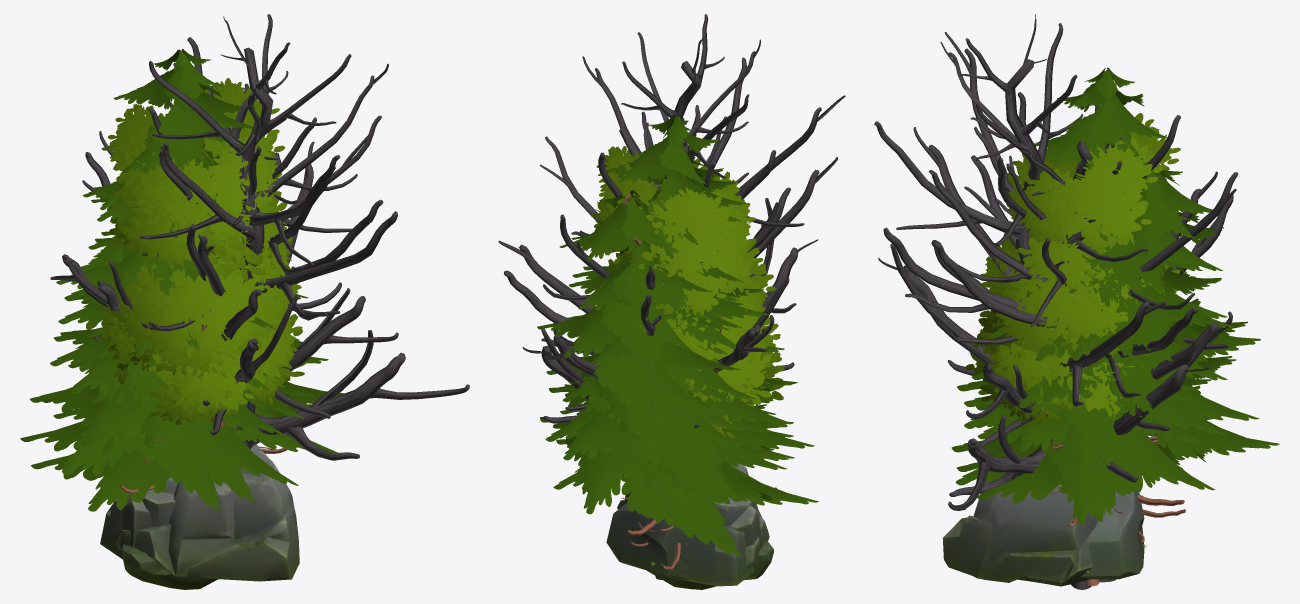
Rendered from naturaleza.glb.
3 views of the same model, side by side, from view 1: azimuth 30°, elevation 25°; view 2: azimuth 150°, elevation 25°; view 3: azimuth 270°, elevation 25° (orthographic). The views are drawn at different scales.
Parts seen in each view (by area): view 1: DeadTree_2, Pine_4, CommonTree_3, Rock_Medium_3, DeadTree_1, Pine_2, Pine_5, CommonTree_1, CommonTree_4, CommonTree_2, Rock_Medium_1, Pine_1 (+2 smaller); view 2: Pine_5, Pine_4, DeadTree_2, CommonTree_3, Rock_Medium_2, DeadTree_1, CommonTree_4, Pine_2, CommonTree_1, CommonTree_2, Pine_1, Rock_Medium_1 (+3 smaller); view 3: Pine_5, DeadTree_2, Pine_4, DeadTree_1, CommonTree_4, Rock_Medium_3, CommonTree_3, CommonTree_2, Pine_2, Rock_Medium_2, CommonTree_1, Pine_1 (+2 smaller).
Boxes of the visible parts, bbox=[...] form: DeadTree_2: bbox=[97, 14, 469, 460]; Pine_4: bbox=[30, 49, 308, 493]; CommonTree_3: bbox=[108, 84, 301, 383]; Rock_Medium_3: bbox=[122, 444, 299, 589]; DeadTree_1: bbox=[50, 62, 398, 418]; Pine_2: bbox=[31, 251, 314, 511]; Pine_5: bbox=[20, 181, 344, 502]; CommonTree_1: bbox=[105, 234, 306, 424]; CommonTree_4: bbox=[113, 78, 287, 248]; CommonTree_2: bbox=[100, 223, 302, 428]; Rock_Medium_1: bbox=[115, 480, 235, 576]; Pine_1: bbox=[53, 246, 283, 468]; Pine_5: bbox=[537, 190, 801, 543]; Pine_4: bbox=[545, 115, 814, 570]; DeadTree_2: bbox=[498, 14, 845, 577]; CommonTree_3: bbox=[613, 152, 775, 402]; Rock_Medium_2: bbox=[606, 497, 754, 586]; DeadTree_1: bbox=[504, 105, 790, 579]; CommonTree_4: bbox=[591, 146, 755, 332]; Pine_2: bbox=[553, 299, 818, 556]; CommonTree_1: bbox=[622, 255, 784, 438]; CommonTree_2: bbox=[593, 255, 784, 405]; Pine_1: bbox=[567, 291, 794, 535]; Rock_Medium_1: bbox=[625, 463, 769, 589]; Pine_5: bbox=[956, 161, 1279, 524]; DeadTree_2: bbox=[874, 14, 1217, 589]; Pine_4: bbox=[957, 67, 1236, 526]; DeadTree_1: bbox=[929, 92, 1238, 589]; CommonTree_4: bbox=[1007, 113, 1180, 586]; Rock_Medium_3: bbox=[942, 480, 1097, 582]; CommonTree_3: bbox=[977, 135, 1178, 420]; CommonTree_2: bbox=[965, 225, 1164, 585]; Pine_2: bbox=[951, 288, 1215, 521]; Rock_Medium_2: bbox=[1081, 490, 1144, 579]; CommonTree_1: bbox=[973, 249, 1179, 436]; Pine_1: bbox=[976, 281, 1211, 505].
Bounding box in the file's own units: 7.38 × 11.49 × 7.63.
Materials: 10 (10 with a texture image).
